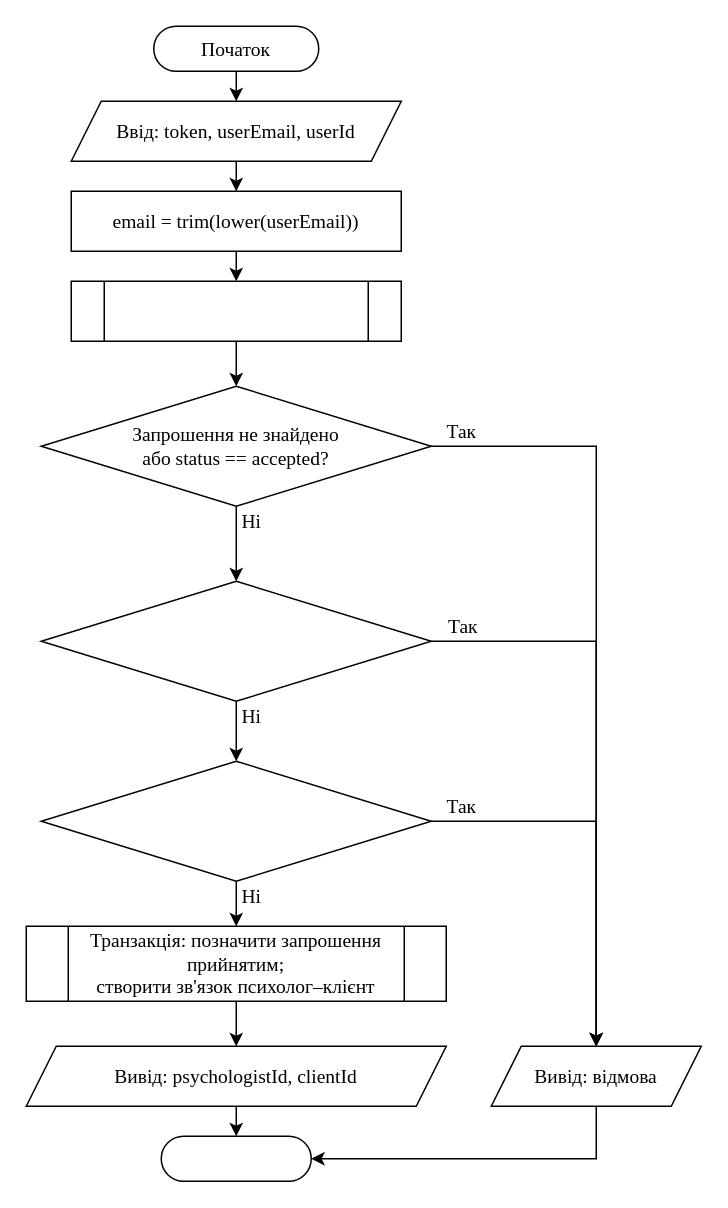
Some shapes in this 728 by 1208 pixel diagram are drawn without their labels. Here are the shapes that lost their labels. From the top down, the centre of each, then its label:
At point (235, 310): "Знайти запрошення за token".
At point (235, 640): "invitedEmail != email?".
At point (235, 820): "userId == psychologistId або userId уже клієнт?".
At point (235, 1158): "Кінець".
